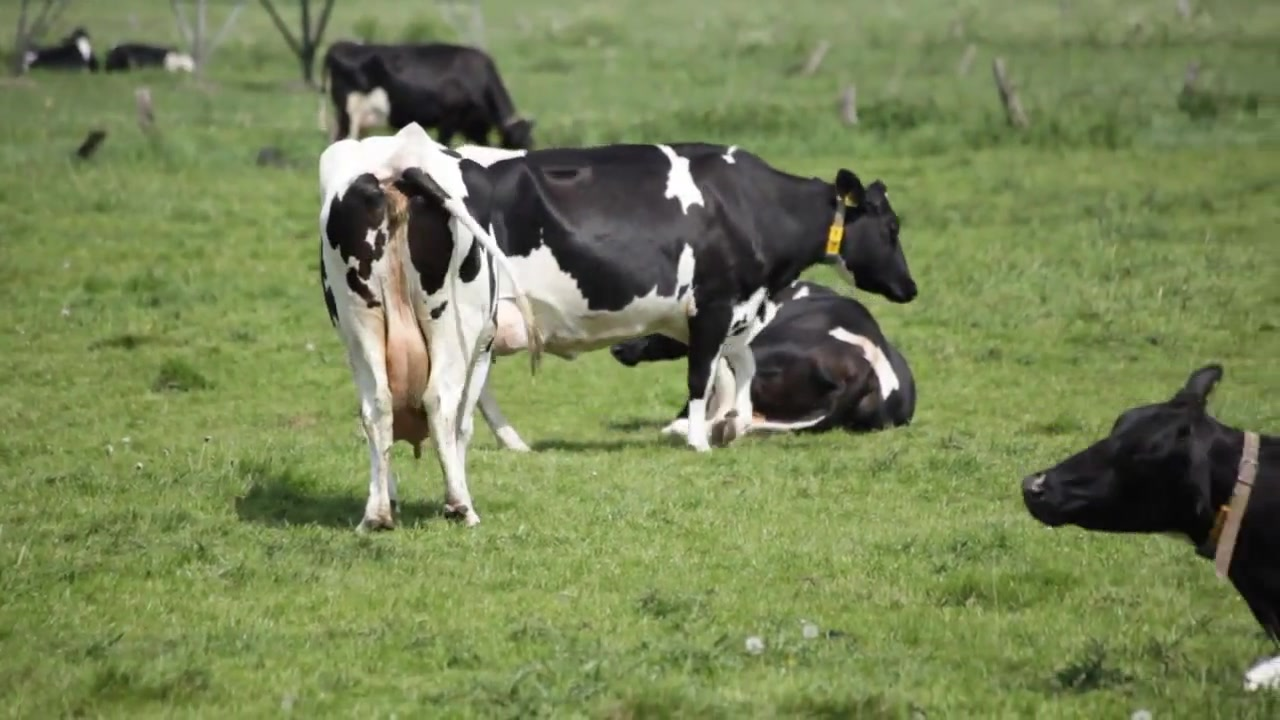cow: (318, 122, 544, 541)
